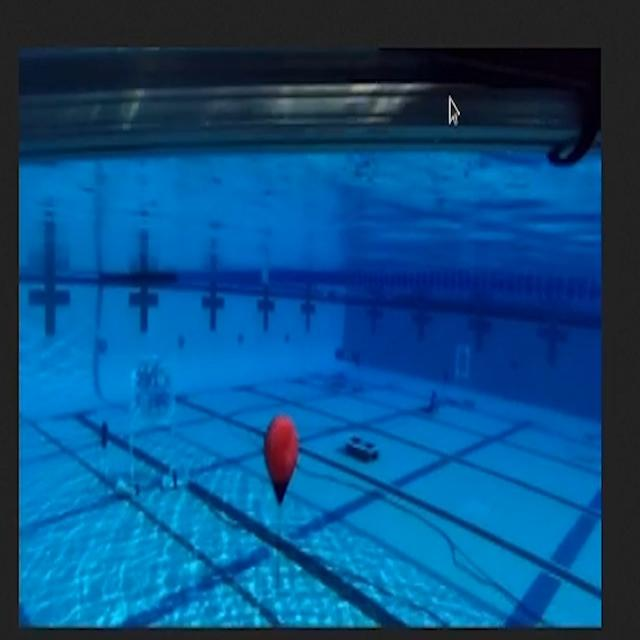Buoy: (262, 410, 299, 506)
